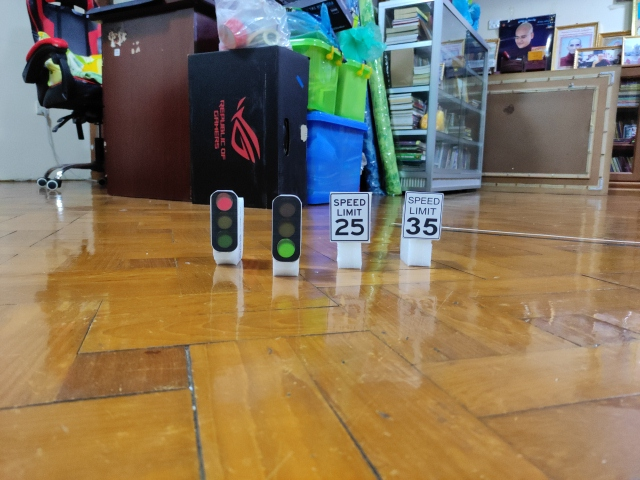Green Traffic Light: (271, 195, 304, 263)
Red Traffic Light: (209, 189, 241, 253)
Speed Limit 25: (328, 191, 372, 242)
Speed Limit 35: (403, 191, 444, 240)
